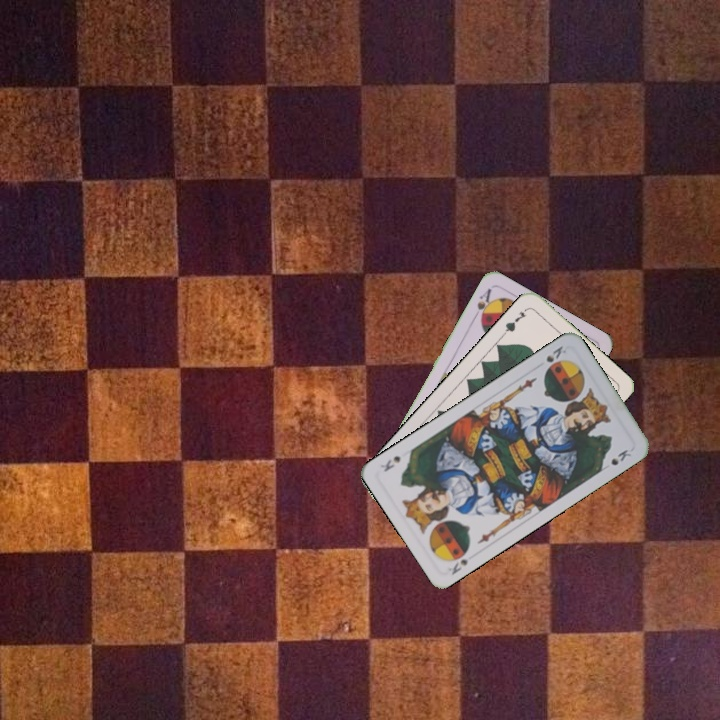G7: (499, 306, 529, 338)
SA: (469, 284, 496, 324)
SK: (542, 342, 569, 365), (444, 555, 470, 577)
